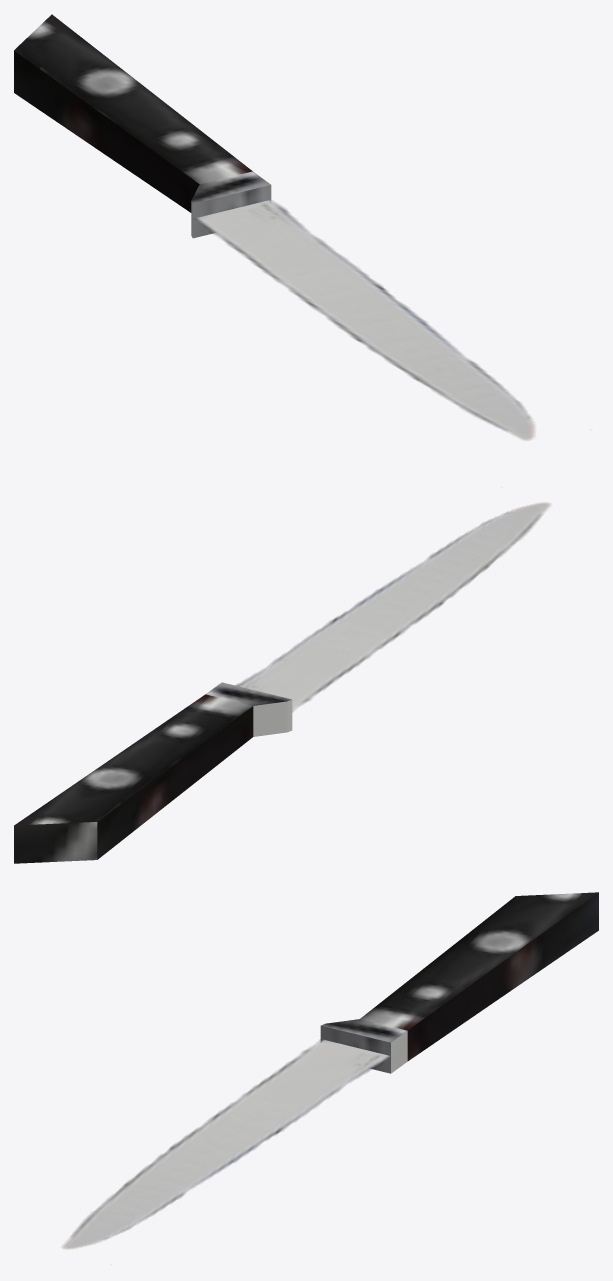
The model's file is Knife_03.glb.
3 views of the same model, one above another, from view 1: azimuth 30°, elevation 25°; view 2: azimuth 150°, elevation 25°; view 3: azimuth 330°, elevation 25° (orthographic). The views are drawn at different scales.
Visible parts, largest first — view 1: Knife_03; view 2: Knife_03; view 3: Knife_03.
Part boxes in pixels (box(x1,y1,x2,y2)): Knife_03: box(14, 14, 535, 440); Knife_03: box(14, 502, 550, 863); Knife_03: box(62, 892, 598, 1249).
Size of the model in its own units: 0.0798 by 0.0263 by 0.608.
Materials: 1 (1 with a texture image).
